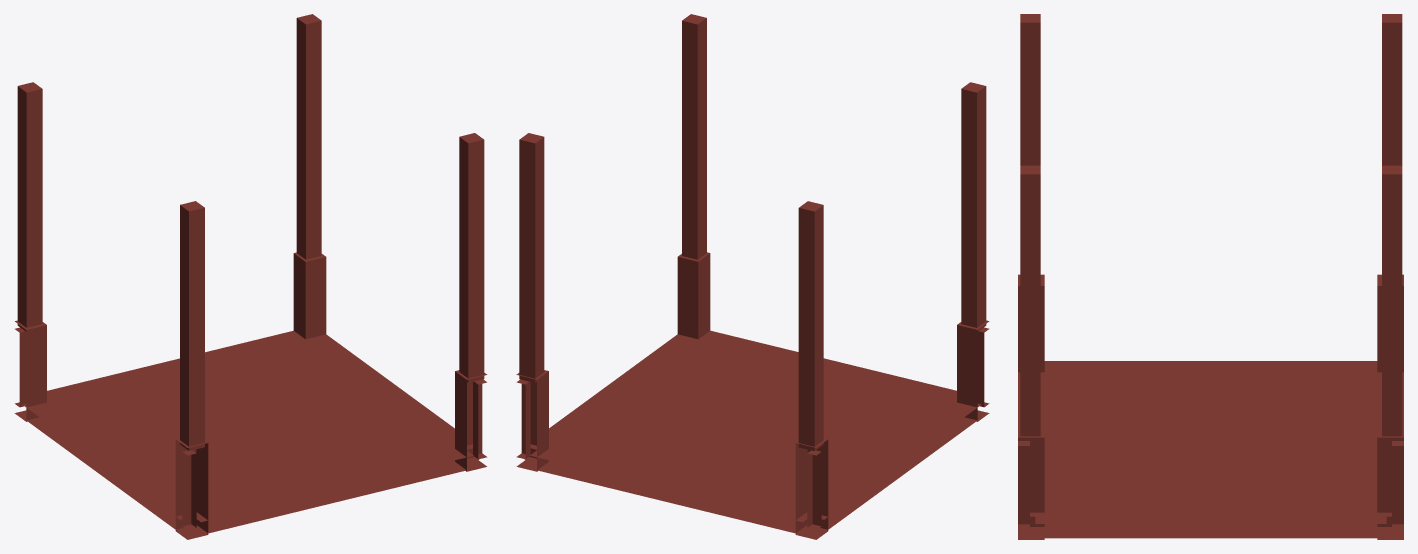
Rendered from Walkway New 4.fbx.
3 renders of one model, left to right at view 1: azimuth 30°, elevation 25°; view 2: azimuth 150°, elevation 25°; view 3: azimuth 270°, elevation 25°, orthographic. The views are drawn at different scales.
Visible parts, largest first — view 1: polySurface217; view 2: polySurface217; view 3: polySurface217.
Boxes of the visible parts, x1=… form: polySurface217: x1=14, y1=14, x2=487, y2=539; polySurface217: x1=516, y1=14, x2=989, y2=539; polySurface217: x1=1018, y1=14, x2=1403, y2=539.
Size of the model in its own units: 129 by 134 by 129.
